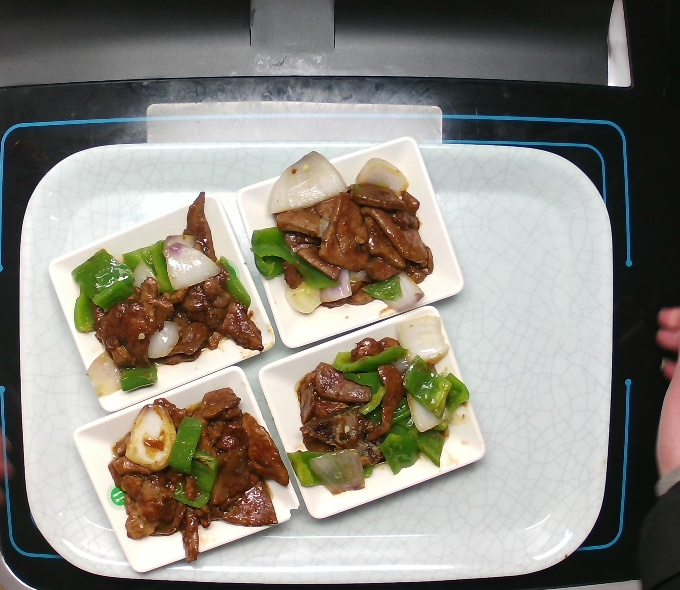wcq-ZhuGan: (60, 200, 257, 391), (96, 389, 282, 554), (247, 146, 441, 304), (283, 336, 471, 485)
